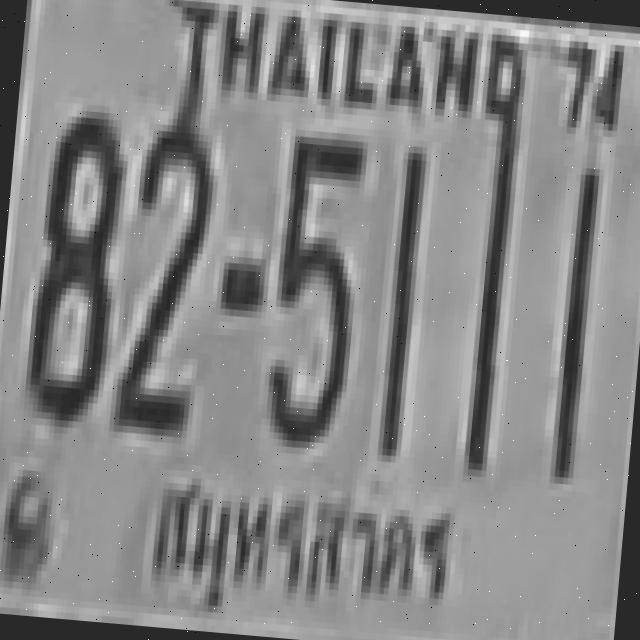2: (116, 116, 218, 405)
5: (260, 128, 364, 444)
8: (18, 103, 122, 420)
SamutSakhon: (132, 460, 466, 625)
